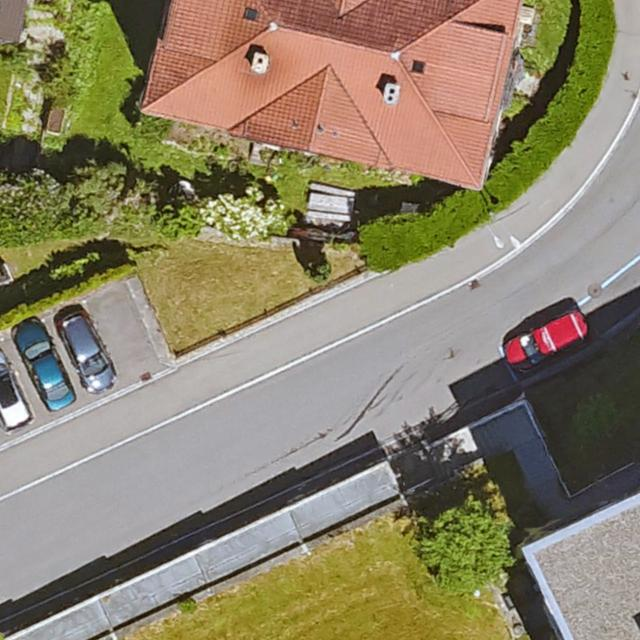tree: (421, 501, 517, 591)
